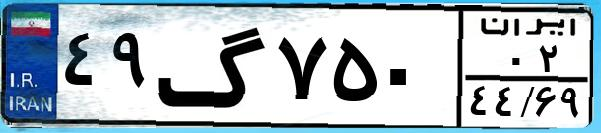0: (385, 28, 445, 110), (508, 27, 537, 80)
2: (537, 27, 568, 80)
4: (57, 26, 110, 100), (470, 70, 495, 125), (495, 70, 520, 125)
5: (330, 28, 385, 110)
6: (535, 70, 560, 125)
7: (270, 28, 330, 110)
9: (110, 28, 156, 98), (560, 70, 590, 125)
گ: (156, 12, 270, 120)
